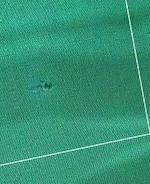knot: (31, 77, 56, 97)
